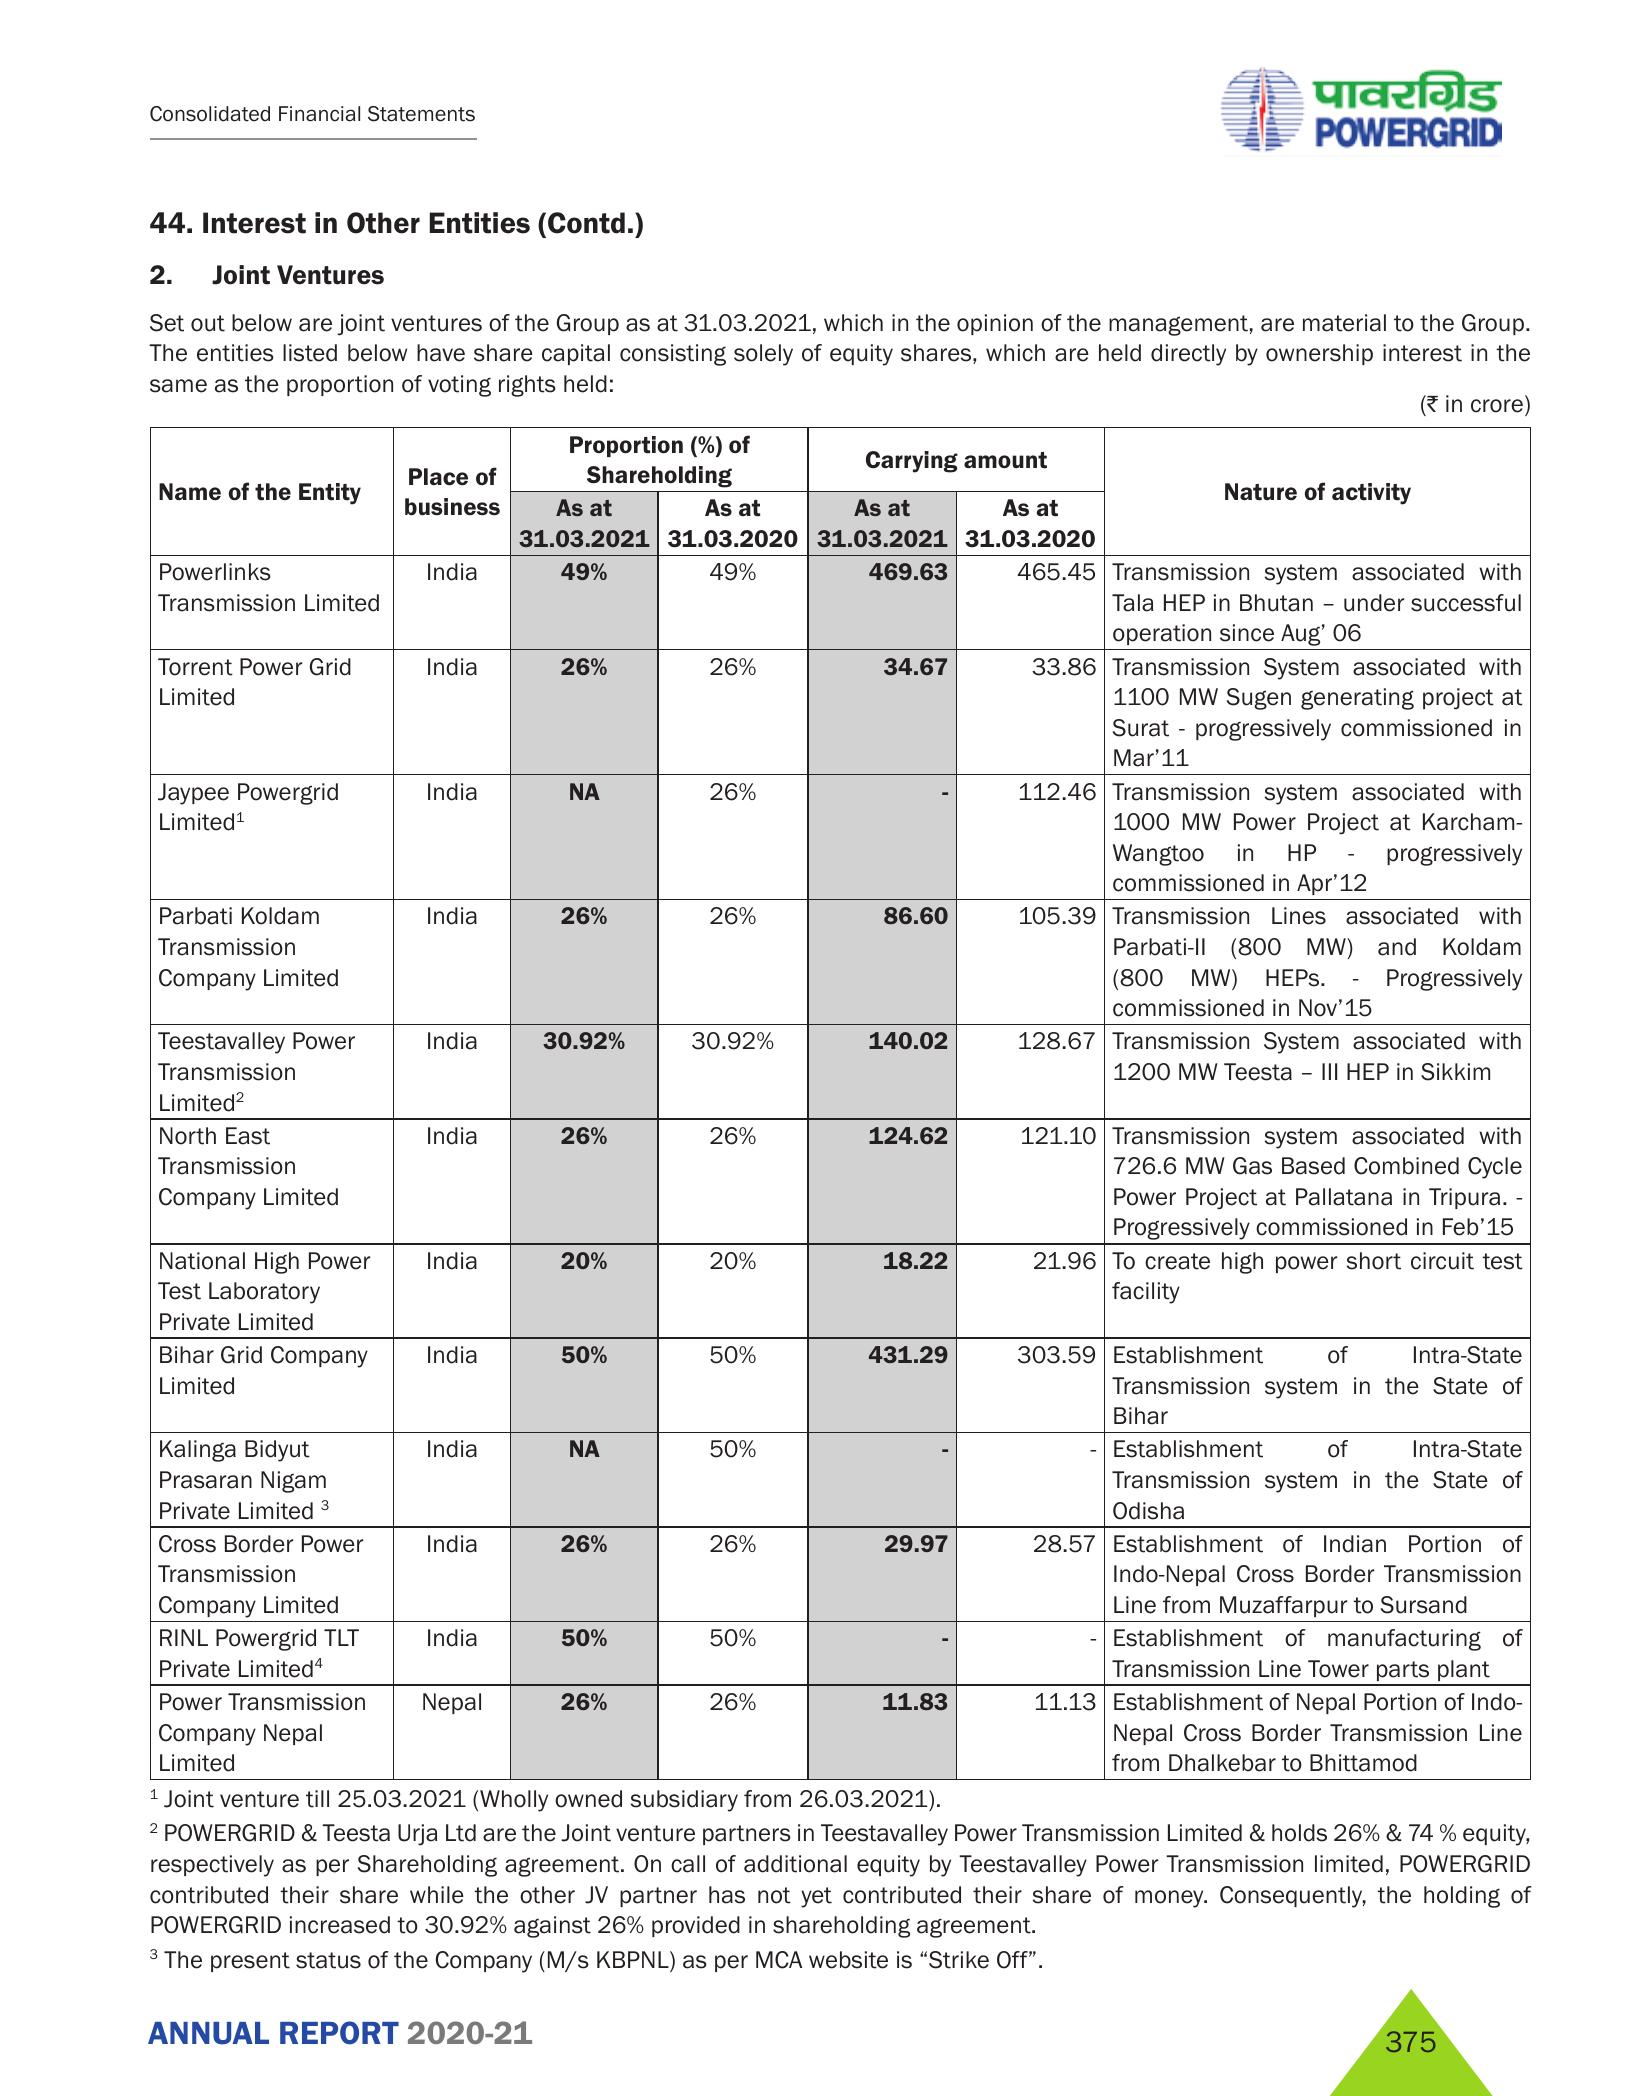Footer: (0, 1968, 1650, 2096)
Header: (0, 0, 1650, 168)
Table: (126, 420, 1577, 1798)
